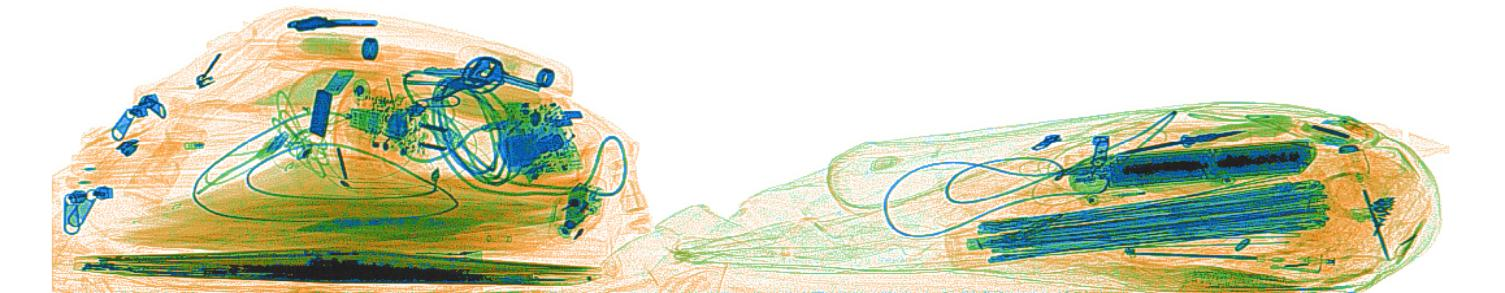battery: (1067, 138, 1317, 194)
